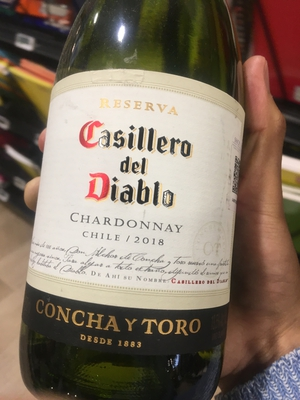casillero del diablo chardonnay: (21, 6, 243, 393)
